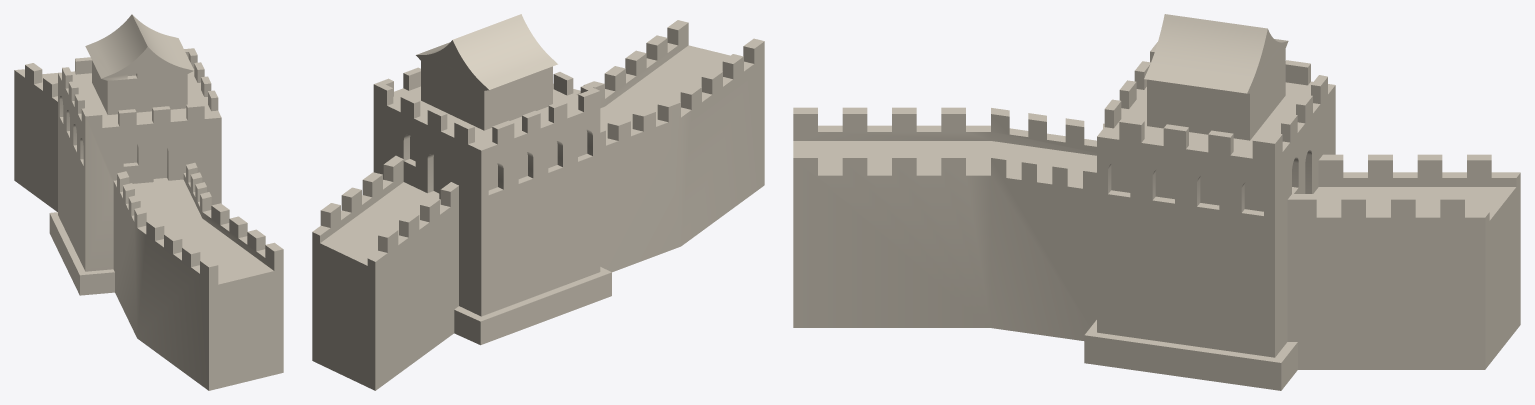
Rendered from greatwall.glb.
3 renders of one model, left to right at view 1: azimuth 30°, elevation 25°; view 2: azimuth 150°, elevation 25°; view 3: azimuth 270°, elevation 25°, orthographic. The views are drawn at different scales.
Parts seen in each view (by area): view 1: great_wall_of_china; view 2: great_wall_of_china; view 3: great_wall_of_china.
Boxes of the visible parts, bbox=[...] form: great_wall_of_china: bbox=[14, 14, 283, 390]; great_wall_of_china: bbox=[312, 14, 764, 390]; great_wall_of_china: bbox=[793, 14, 1520, 390].
Bounding box in the file's own units: 9.28 × 12 × 25.24.
